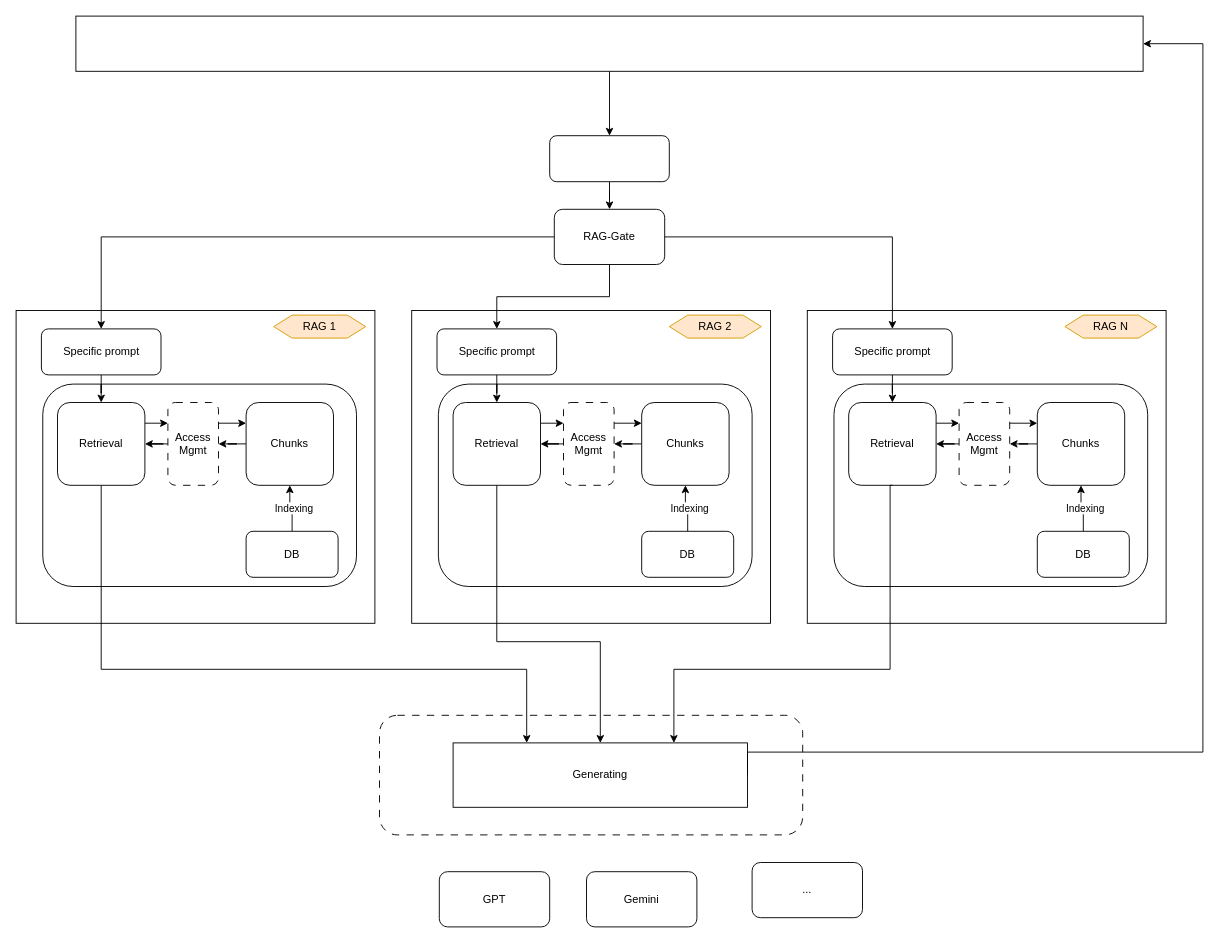
The diagram is 1226 pixels wide and 943 high, and some of its shapes have lost their labels. Here are the shapes that lost their labels. From the top down, the centre of each, then its label:
(609,43): Interface
(609,158): General promt
